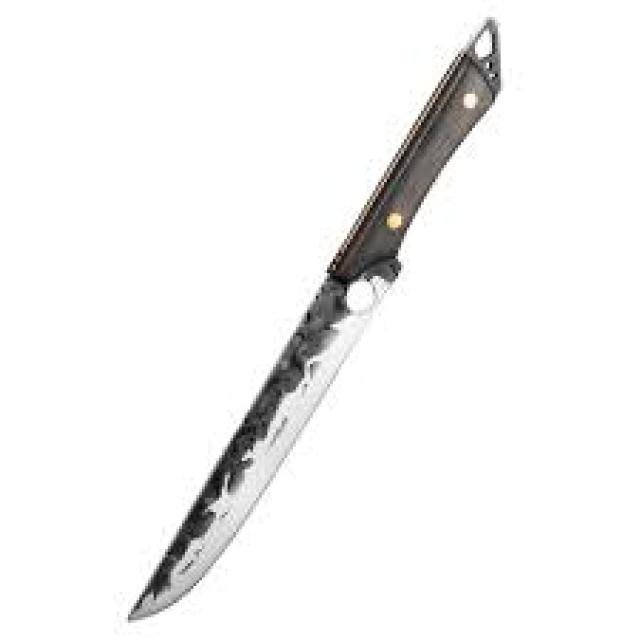Knife: (128, 17, 495, 620)
